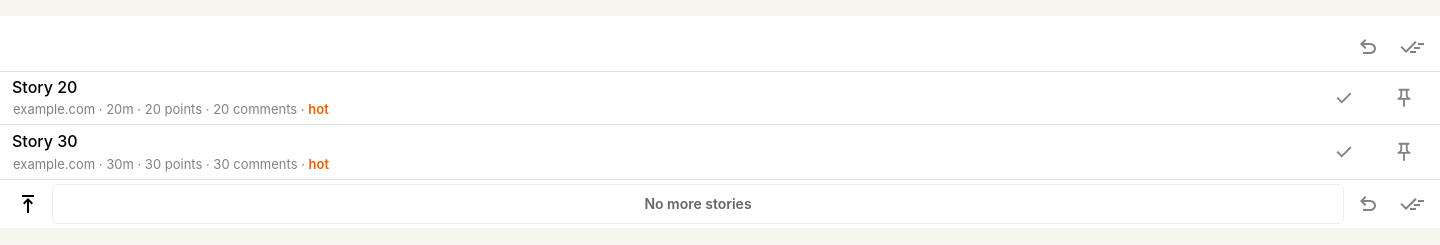
Test case: <StoryList> hidden-story handling › hides a story after a swipe past the threshold and persists the id
Press the mouse on the element with test id "story-row" that starts with "Story 20" at (720, 98), box left=0, top=71, right=1439, bottom=124
Wait 300 ms
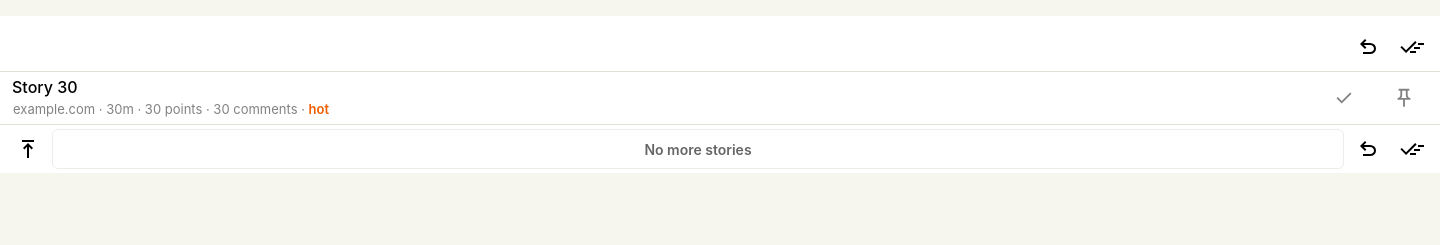
Result: the link "Story 20" is gone
